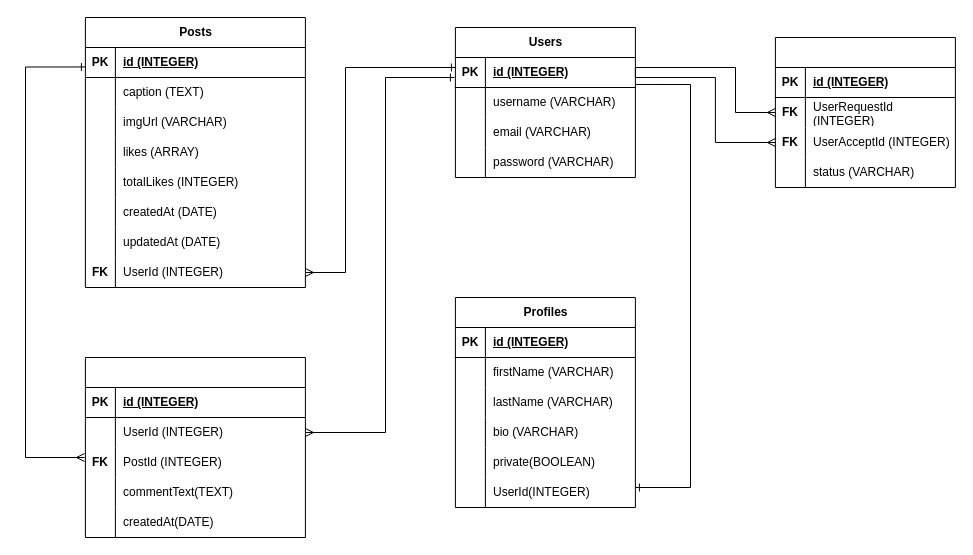
The diagram is 973 pixels wide and 555 high, and some of its shapes have lost their labels. The shapes that lost their labels are listed below. From the top down, each one's box as (x1, y1, x2, y2) in pixels, then its label:
(774, 36, 955, 188): FriendShips
(84, 356, 305, 538): Comments
